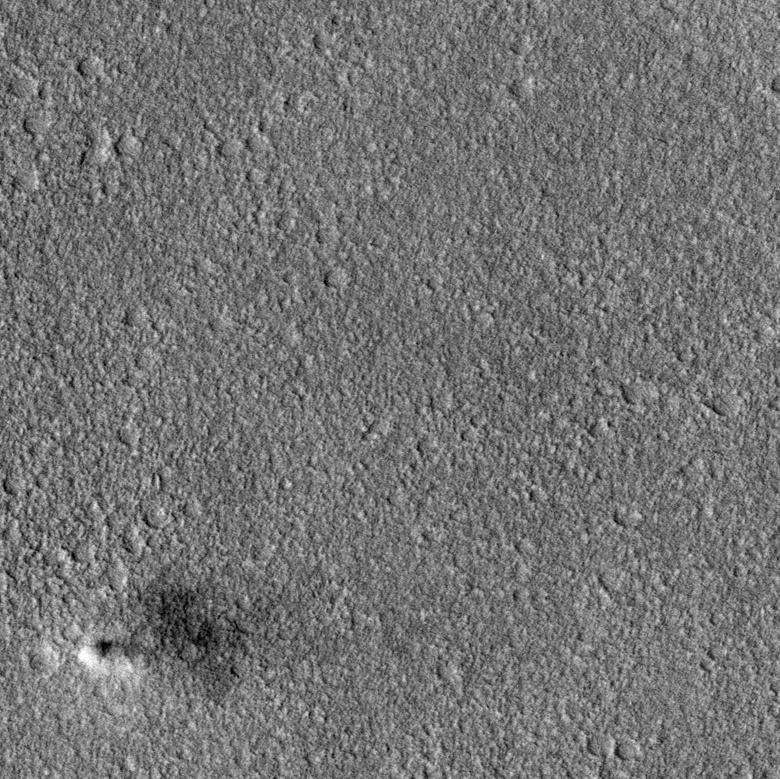dust_devil: (77, 584, 248, 701)
